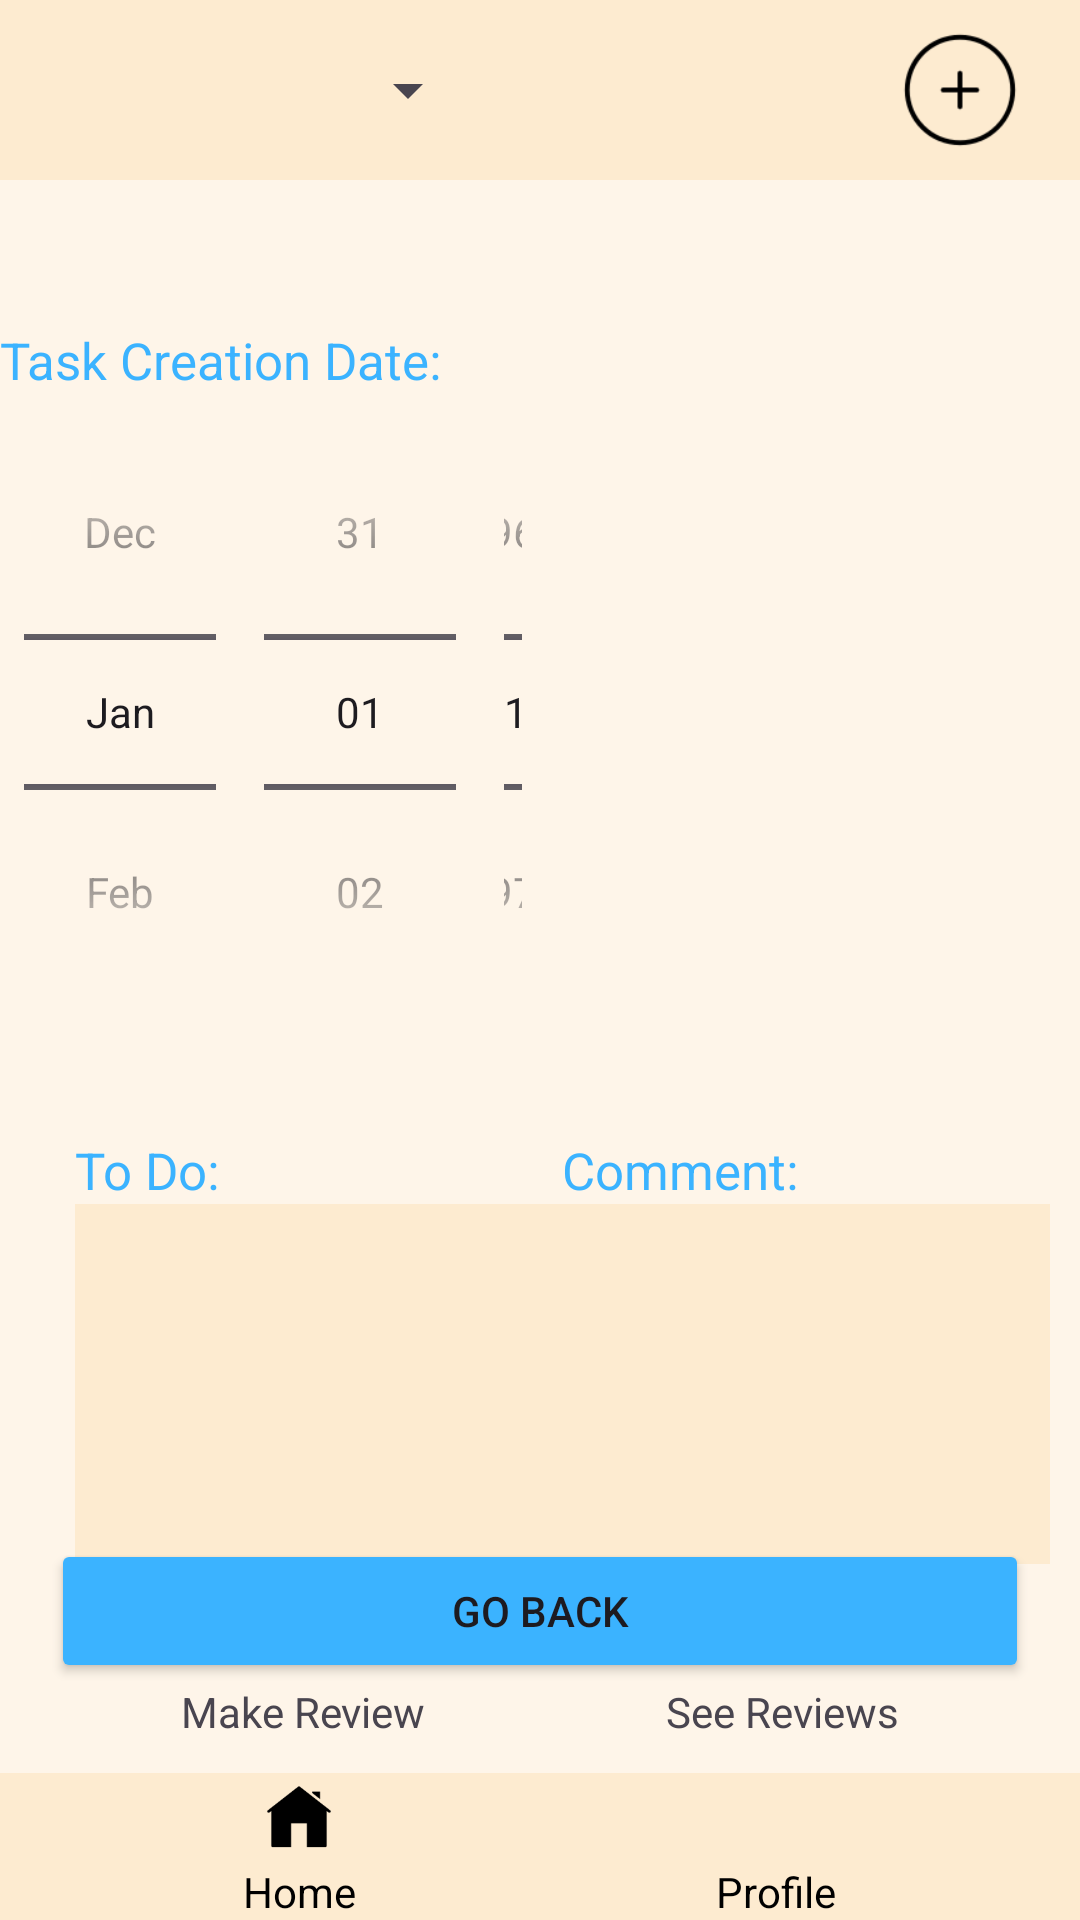

Point at icon controls on the screen. Image size 1080 × 1920, points as point (x, y).
add: point (960, 90)
